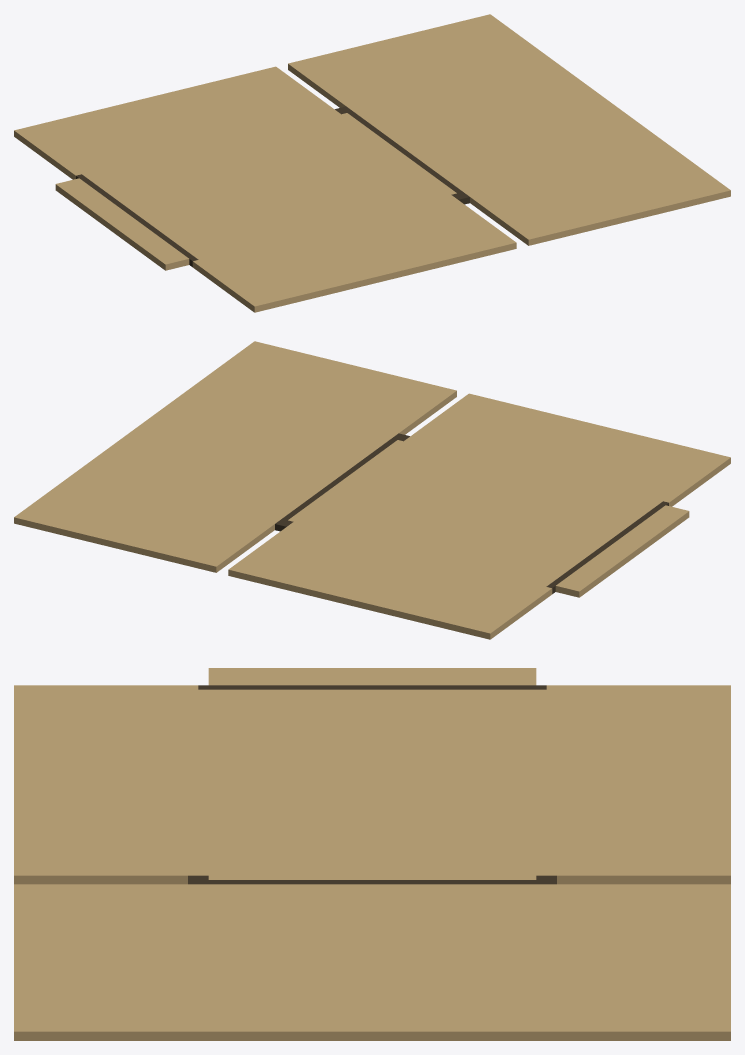
The model's file is box_medium_folded.glb.
The picture shows the model from 3 angles, top to bottom: view 1: azimuth 30°, elevation 25°; view 2: azimuth 150°, elevation 25°; view 3: azimuth 270°, elevation 25°; orthographic projection. The views are drawn at different scales.
Visible parts, largest first — view 1: box_medium_folded:compound; view 2: box_medium_folded:compound; view 3: box_medium_folded:compound.
Boxes of the visible parts, x1,y1,x2,y2 form: box_medium_folded:compound: [14, 14, 730, 312]; box_medium_folded:compound: [14, 341, 730, 639]; box_medium_folded:compound: [14, 668, 730, 1040].
Bounding box in the file's own units: 0.84 × 0.01 × 0.7.
